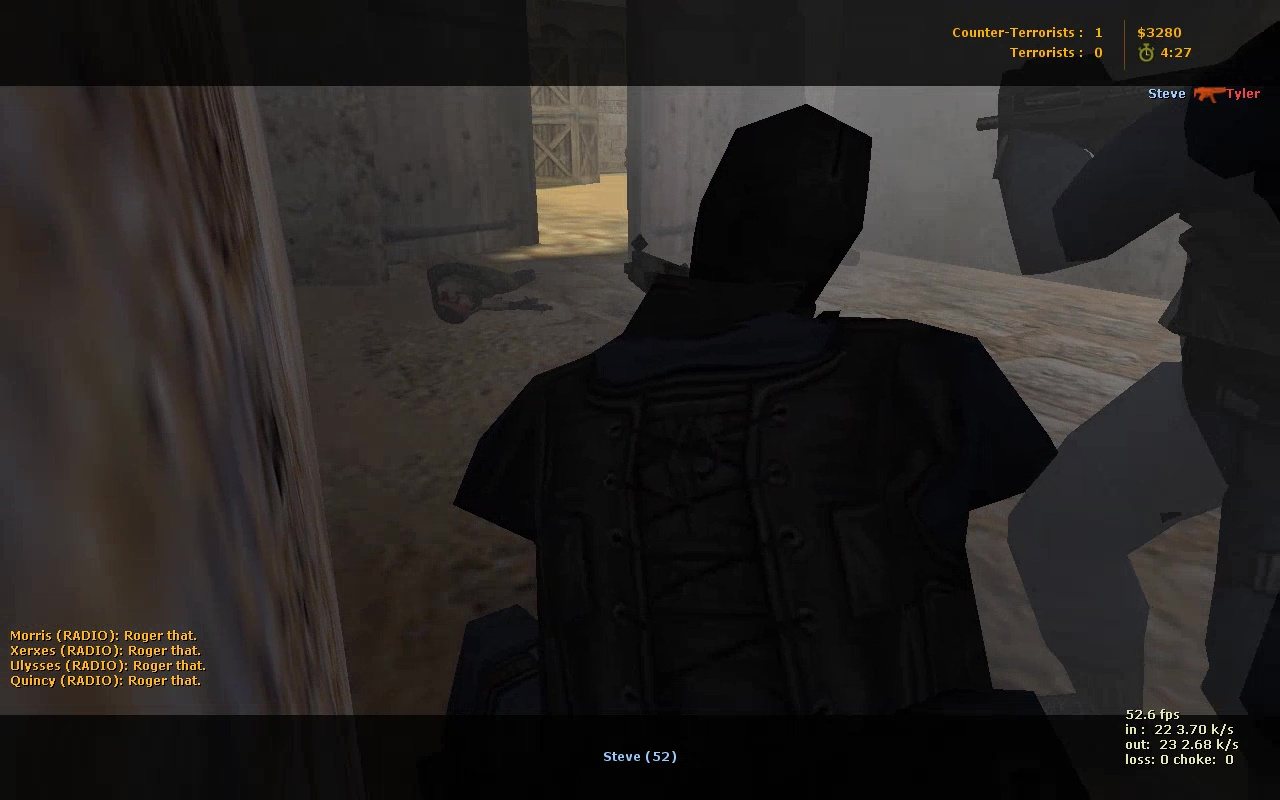dead: (428, 259, 551, 324)
